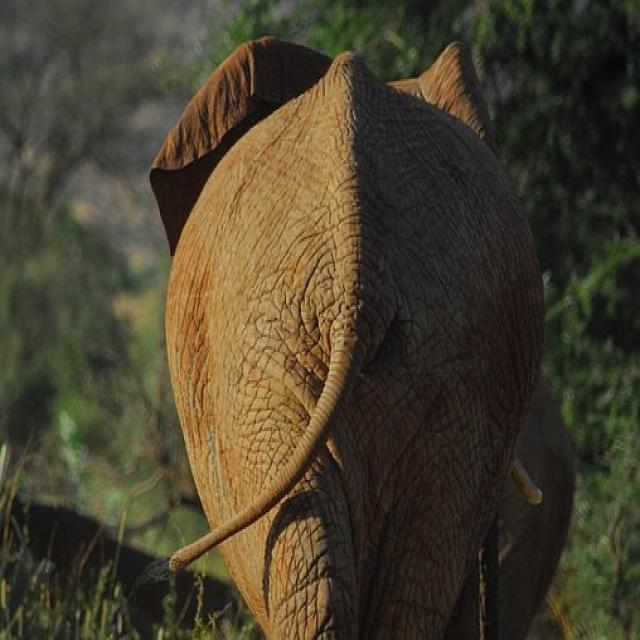Elephant: (132, 7, 605, 640)
